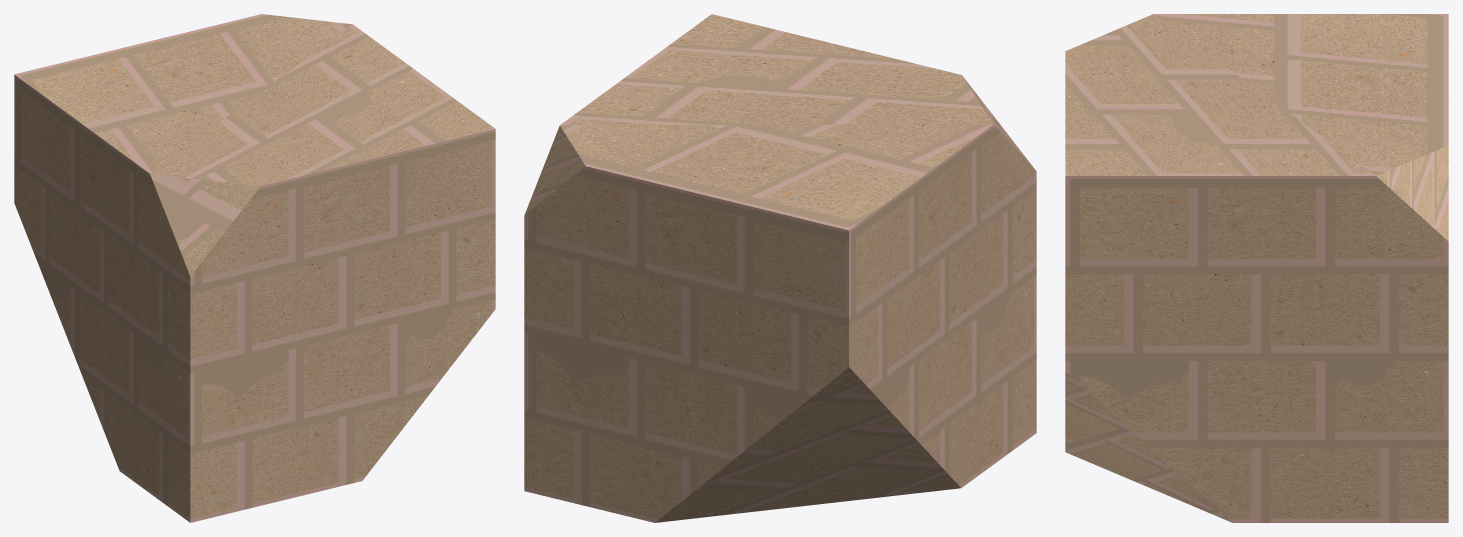
File: BrokenBrick02.FBX
3 views of the same model, side by side, from view 1: azimuth 30°, elevation 25°; view 2: azimuth 150°, elevation 25°; view 3: azimuth 270°, elevation 25° (orthographic). The views are drawn at different scales.
Parts seen in each view (by area): view 1: Box002; view 2: Box002; view 3: Box002.
Boxes of the visible parts, x1,y1,x2,y2 form: Box002: (14,14,495,522); Box002: (524,14,1036,522); Box002: (1065,14,1448,522).
Bounding box in the file's own units: 10 × 10 × 10.
Materials: 1 (1 with a texture image).
